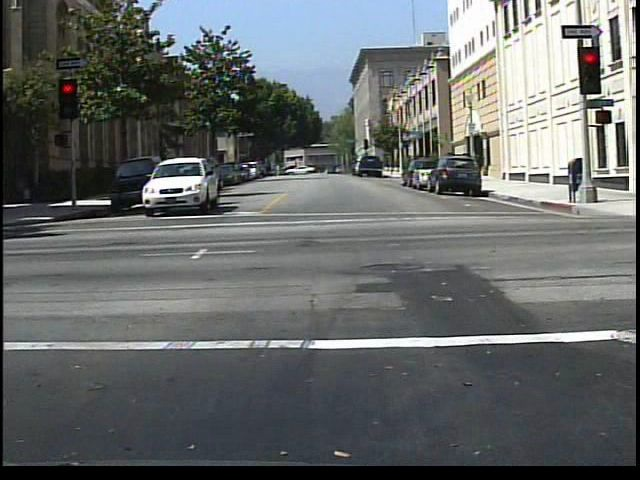person: (270, 160, 285, 183)
